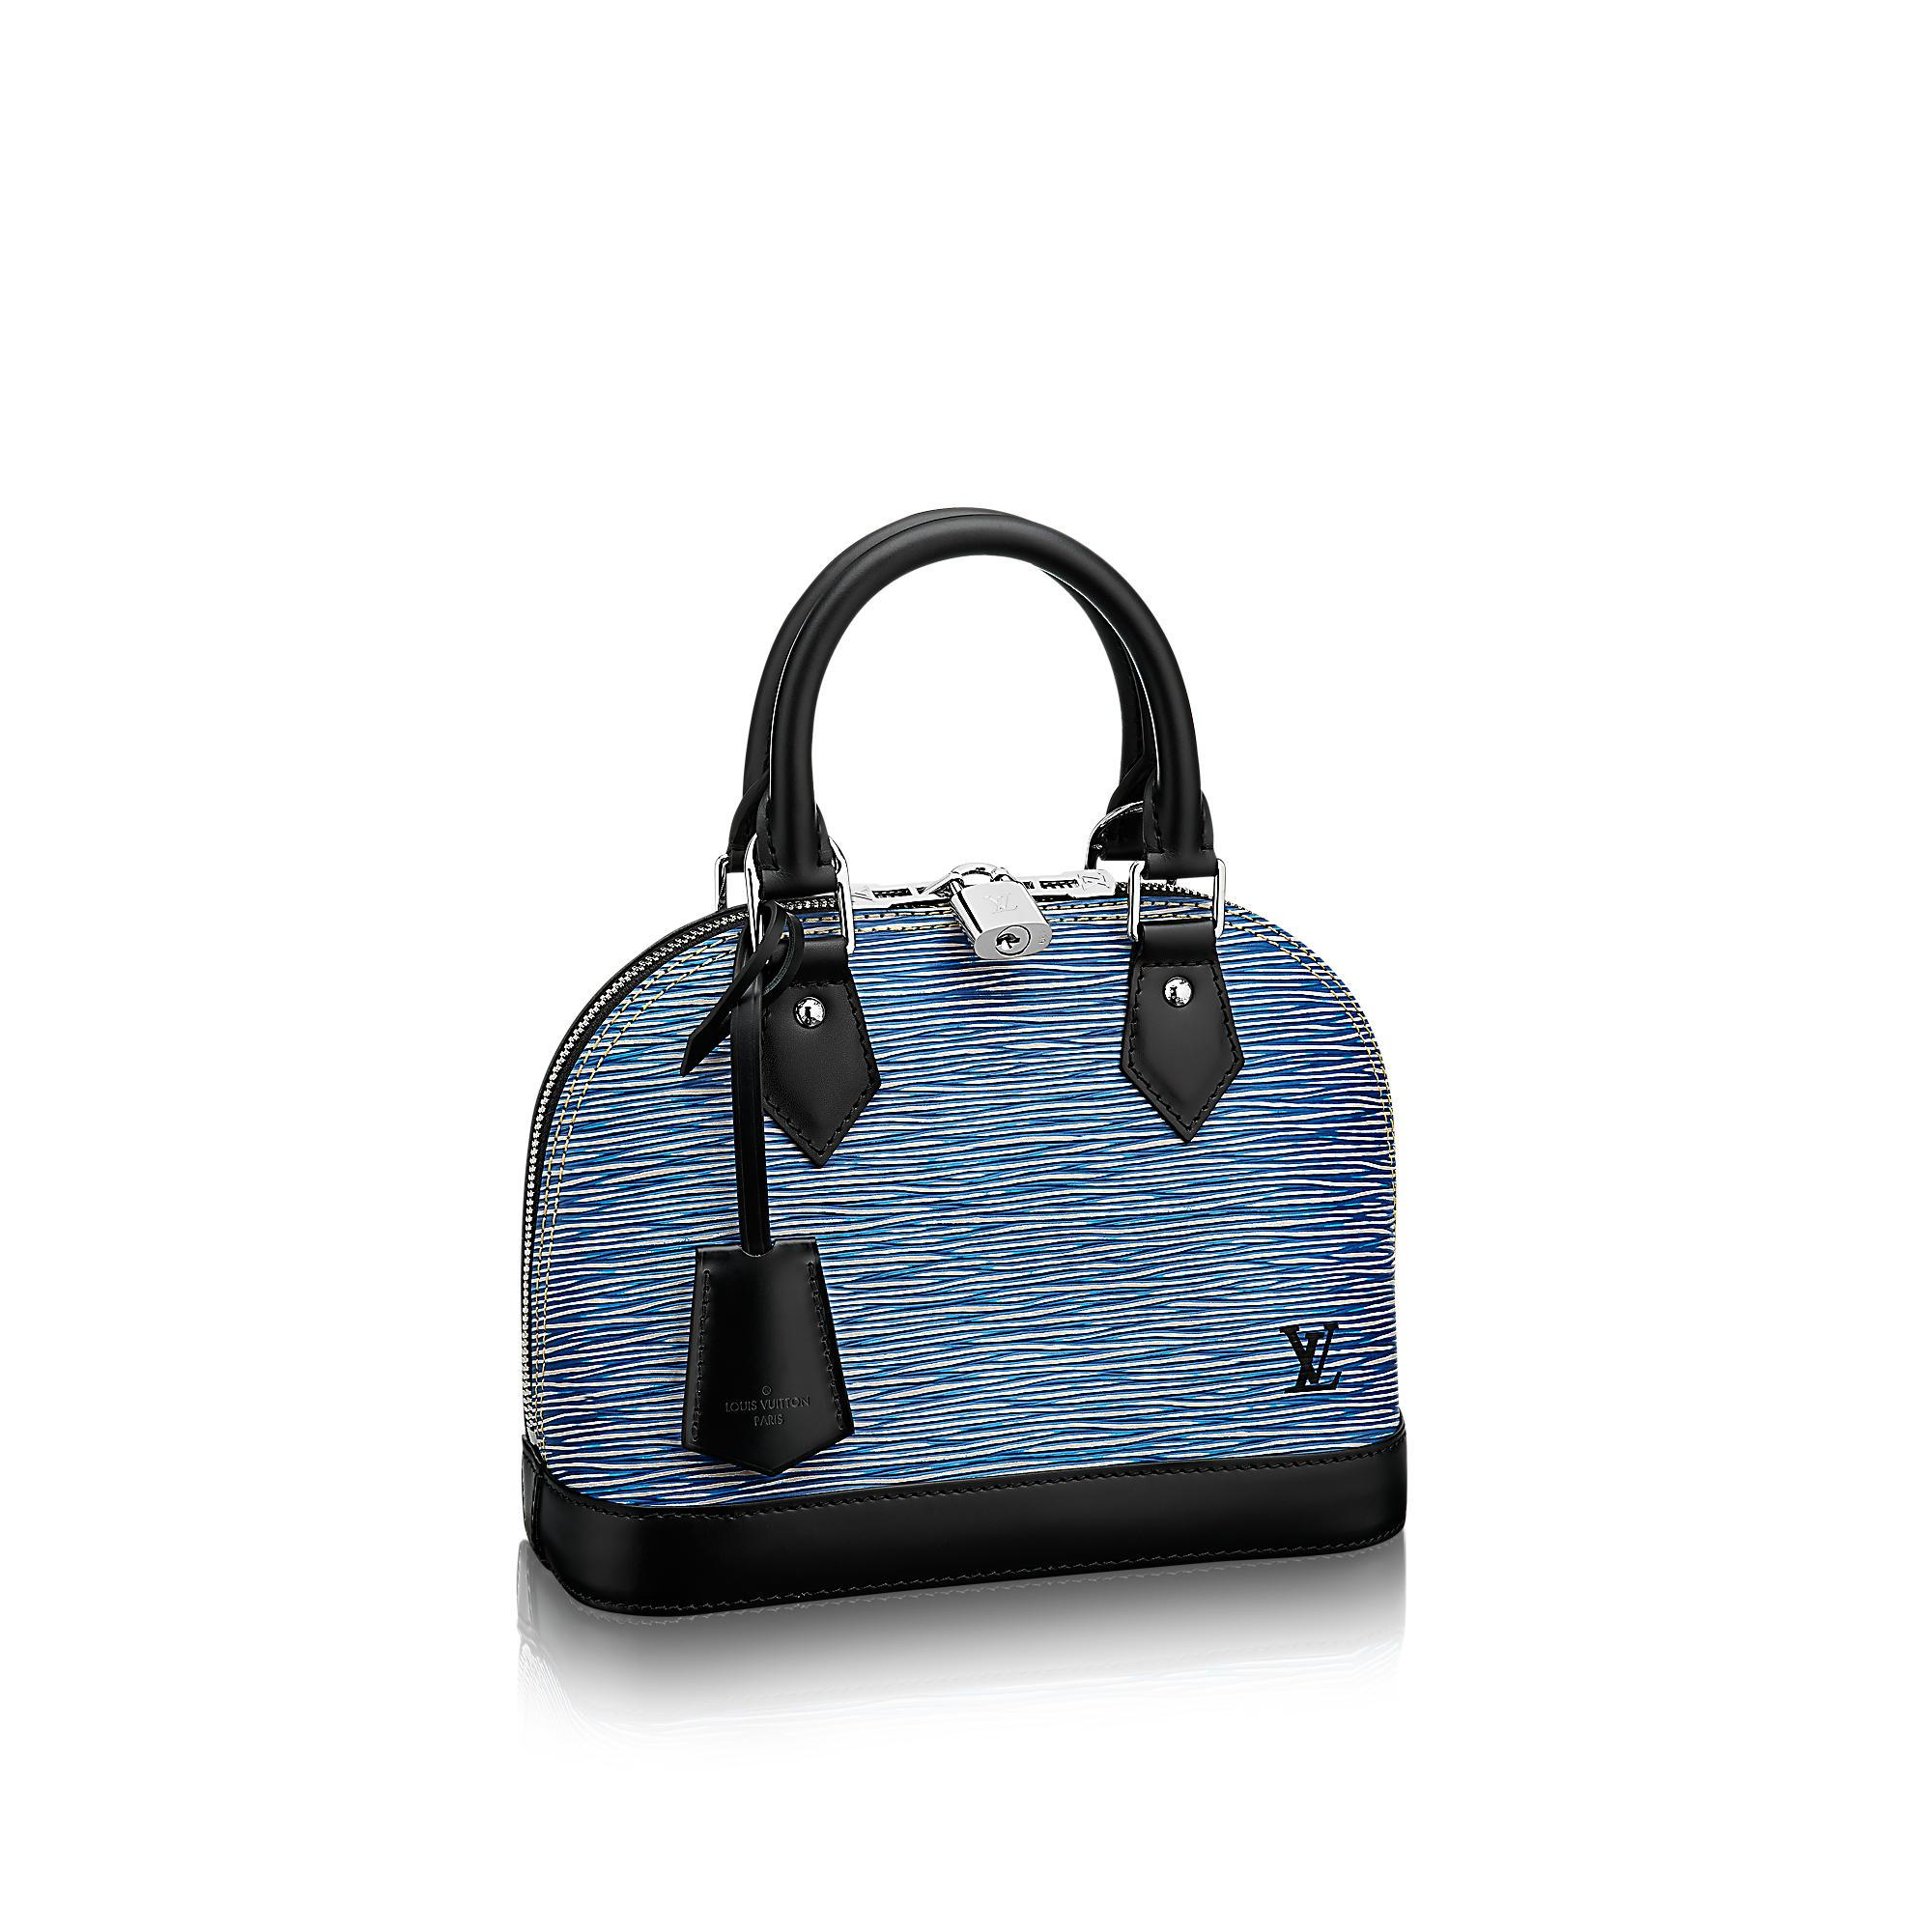LOUIS-VUITTON: (1274, 1318, 1345, 1399), (984, 890, 1017, 918), (1076, 867, 1109, 892), (849, 886, 874, 904)
